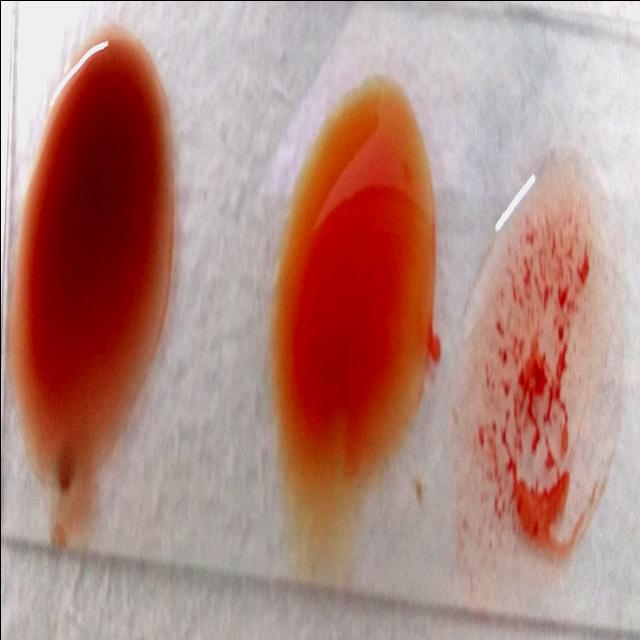D: (458, 162, 618, 572)
